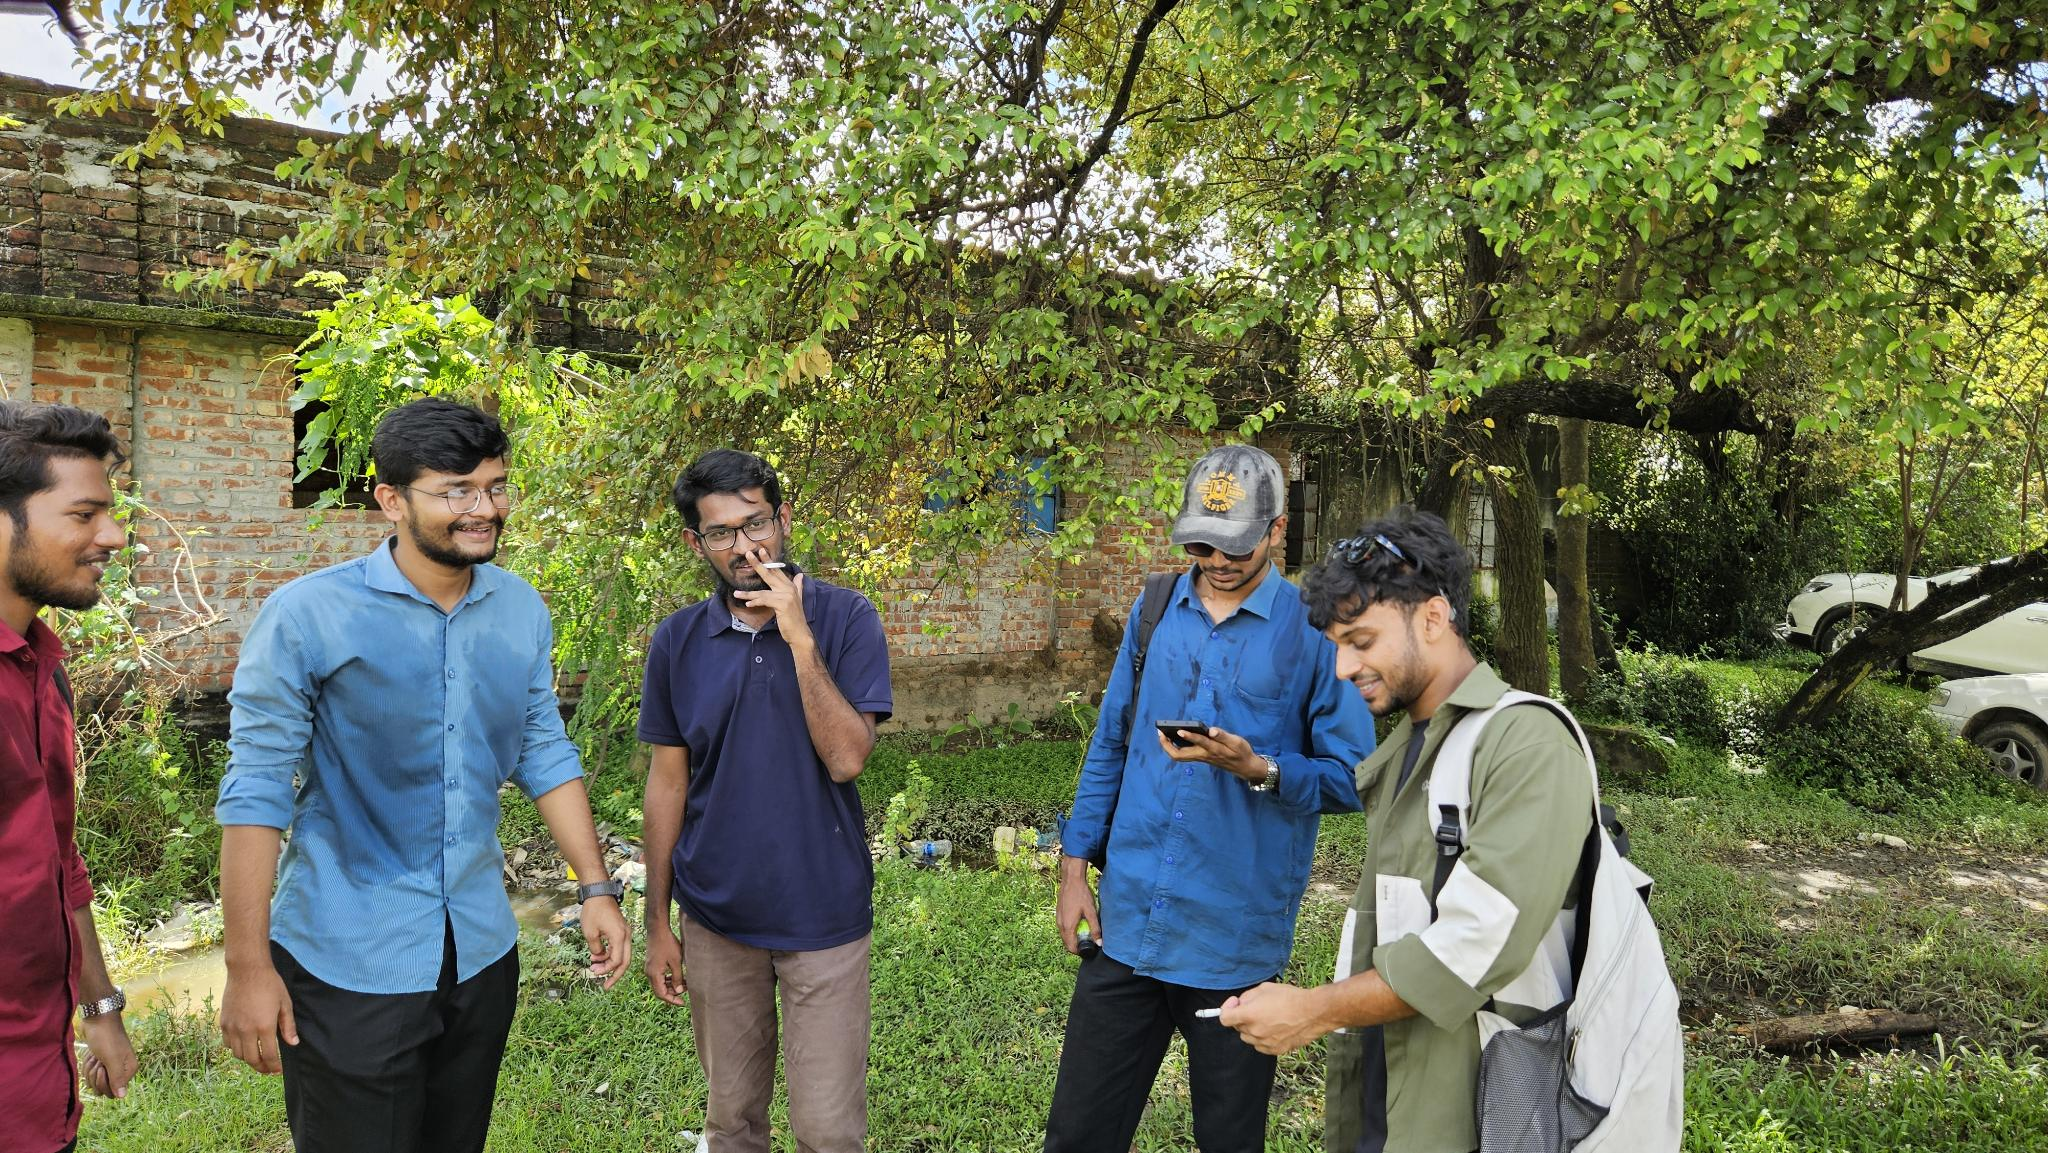cigarette: (1191, 1003, 1227, 1024), (761, 561, 788, 571)
nonSmoker: (221, 397, 629, 1153), (1042, 442, 1374, 1153), (0, 402, 143, 1153)
smoker: (1218, 510, 1687, 1153), (639, 446, 893, 1153)
